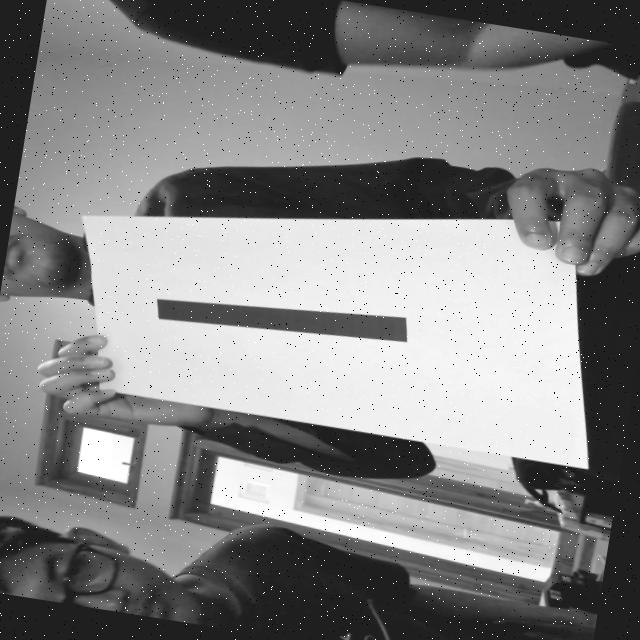i: (138, 255, 435, 370)
